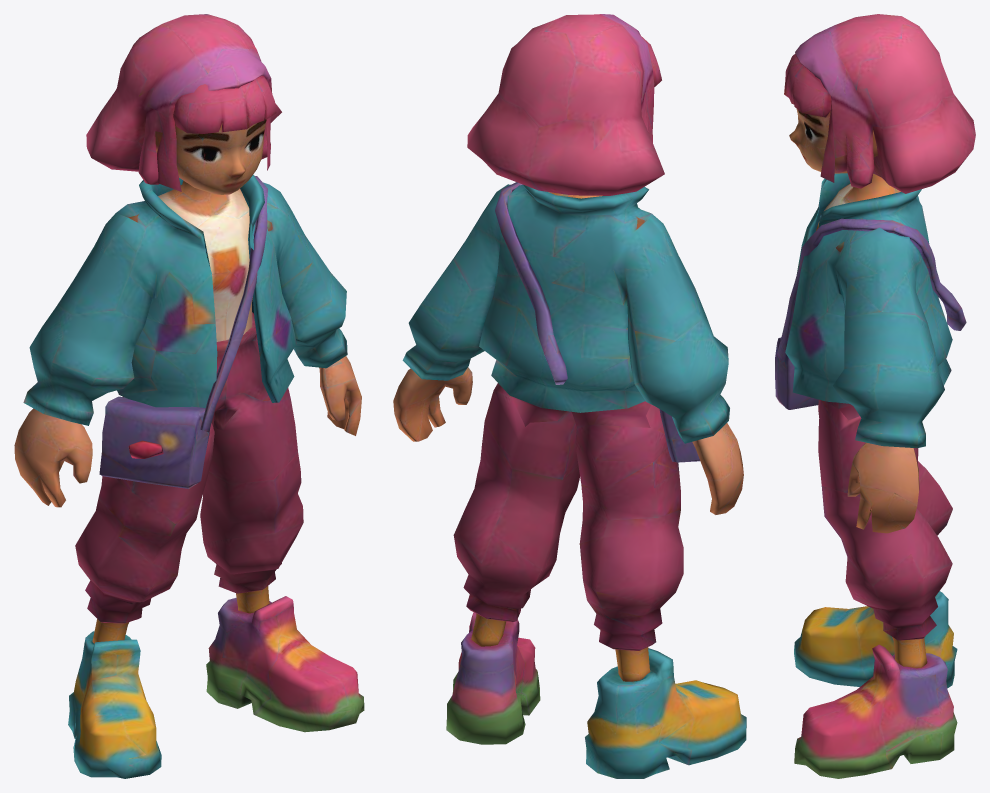
File: Pink_Haired_Urban_Exp.glb
The picture shows the model from 3 angles, left to right: view 1: azimuth 30°, elevation 25°; view 2: azimuth 150°, elevation 25°; view 3: azimuth 270°, elevation 25°; orthographic projection. The views are drawn at different scales.
Visible parts, largest first — view 1: geometry_0; view 2: geometry_0; view 3: geometry_0.
Boxes of the visible parts, bbox=[...] form: geometry_0: bbox=[14, 14, 364, 778]; geometry_0: bbox=[393, 14, 746, 778]; geometry_0: bbox=[775, 14, 975, 778].
Size of the model in its own units: 0.4879 by 1 by 0.2645.
1 material, 1 textured.
